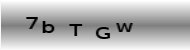7: (24, 15, 38, 30)
G: (94, 26, 111, 40)
T: (68, 23, 83, 37)
b: (41, 20, 56, 35)
w: (115, 22, 134, 34)
